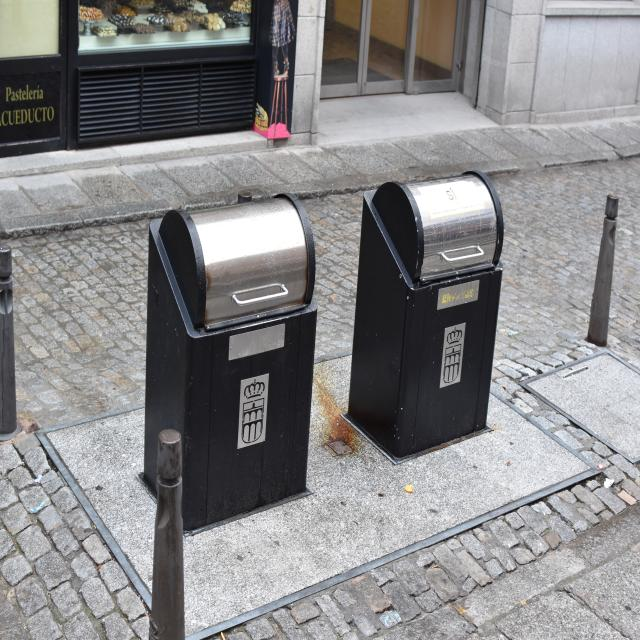lixo domiciliar: (29, 501, 45, 513), (501, 328, 518, 337), (604, 478, 614, 488), (404, 484, 413, 493), (34, 474, 42, 483), (597, 463, 604, 469)
